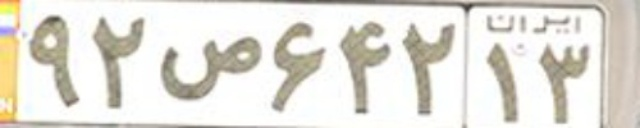1: (485, 44, 521, 121)
2: (90, 14, 143, 109), (402, 22, 456, 115)
3: (538, 43, 591, 123)
4: (337, 20, 390, 113)
6: (269, 21, 325, 111)
9: (26, 14, 78, 108)
saat: (161, 34, 263, 100)
